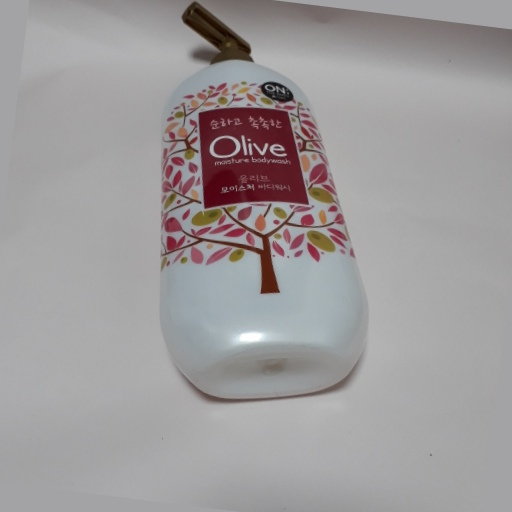Plastic_3: (152, 1, 369, 411)
